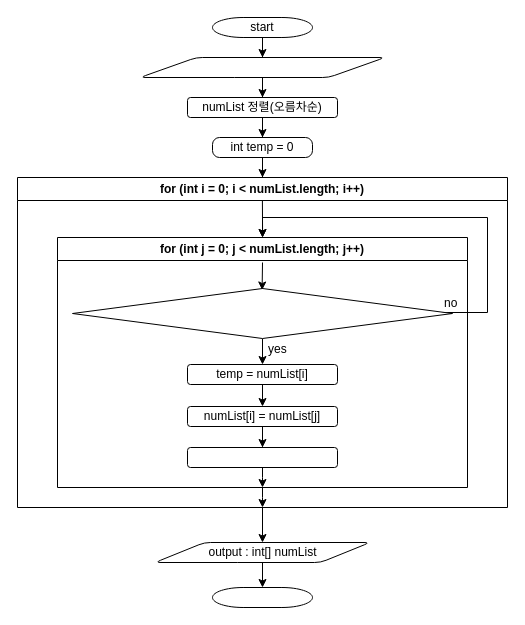
This 525x625 diagram has some shape labels left out. Here are the shapes that lost their labels. From the top down, the centre of each, then its label:
pixel 262 67: input : int[] numList, int n
pixel 262 313: (n - numList[i])의 절댓값이 (n - numList[j])의 절댓값 보다 큰 가?
pixel 262 457: numList[j] = temp
pixel 262 597: end
